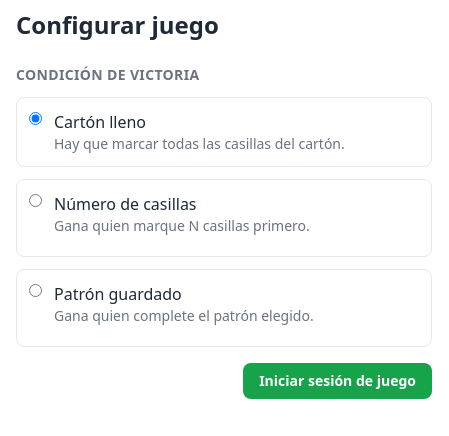
Test: ConfiguracionJuego › al seleccionar patrón sin patrones guardados muestra aviso
The image size is (449, 436).
Click the radio button labelled "Patrón guardado Gana quien complete el patrón elegido." at (36, 290), box [29,284,42,297]
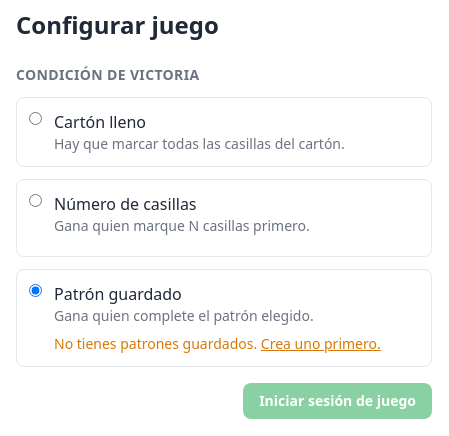
Check: the text "No tienes patrones guardados. Crea uno primero." is shown, box [54,334,419,354]
